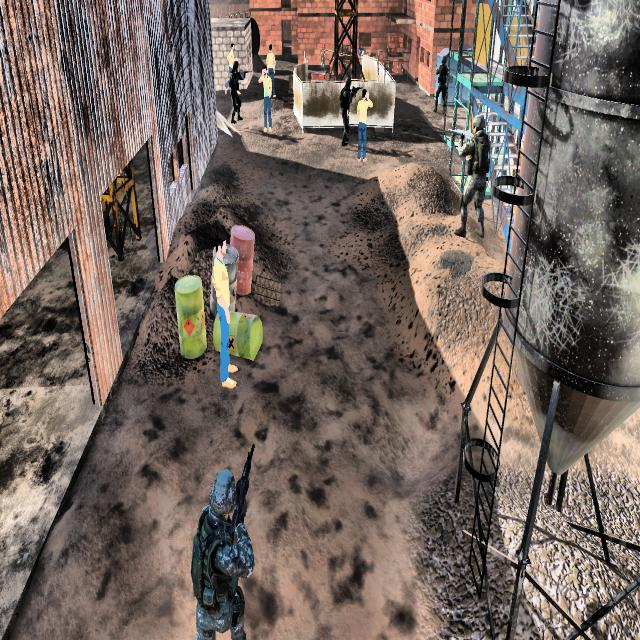bad: (184, 447, 262, 640), (452, 105, 493, 247), (430, 48, 452, 114), (334, 73, 353, 148), (227, 56, 244, 126)
good: (213, 219, 238, 397), (356, 82, 376, 166), (258, 61, 276, 140), (262, 39, 277, 83), (224, 40, 240, 69)
